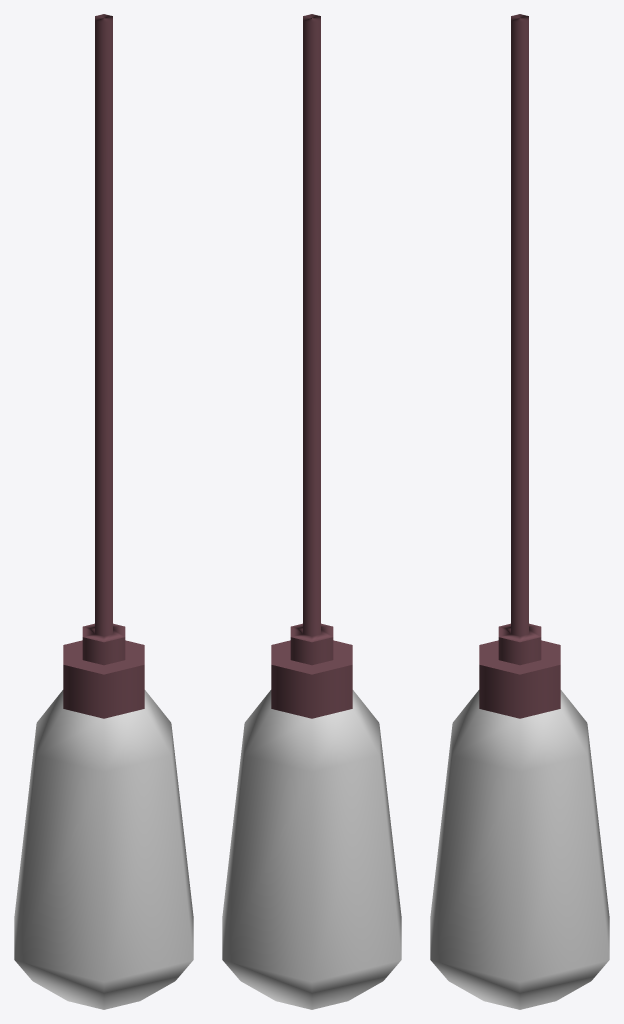
File: lampLong.fbx
3 views of the same model, side by side, from view 1: azimuth 30°, elevation 25°; view 2: azimuth 150°, elevation 25°; view 3: azimuth 270°, elevation 25° (orthographic).
Parts seen in each view (by area): view 1: lampLong; view 2: lampLong; view 3: lampLong.
Part boxes in pixels (x1,y1,x2,y2): lampLong: (14, 14, 193, 1009); lampLong: (222, 14, 401, 1009); lampLong: (430, 14, 609, 1009).
Size of the model in its own units: 1.56 by 8.09 by 1.35.
